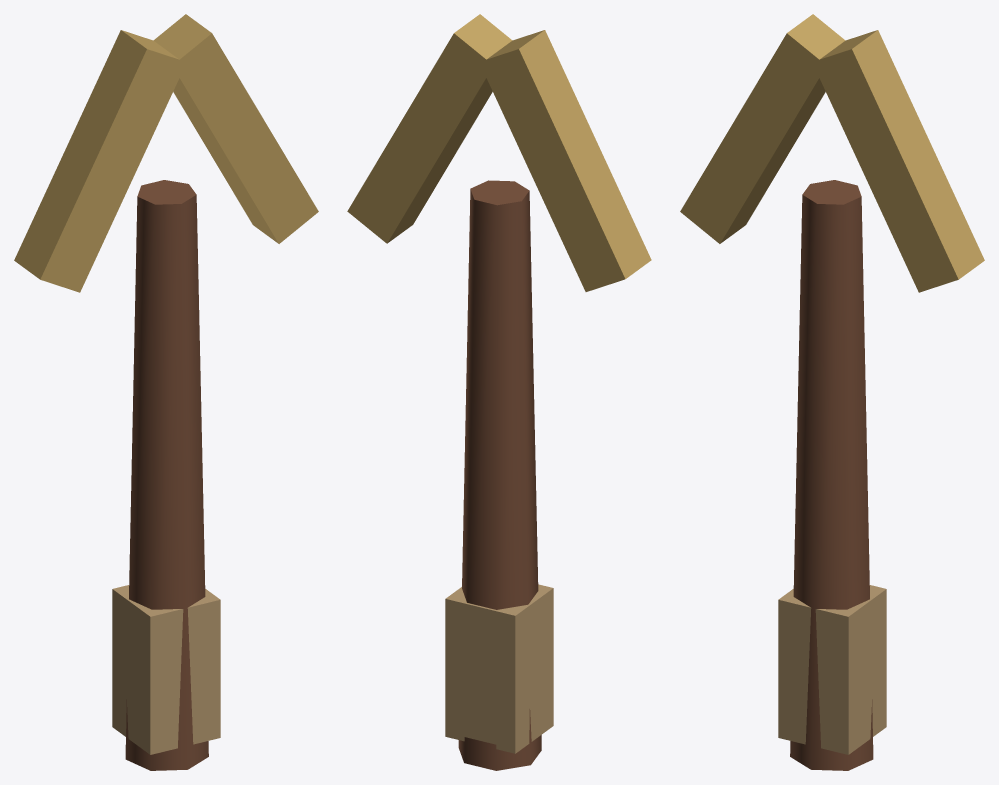
The model's file is wand-0.glb.
The picture shows the model from 3 angles, left to right: view 1: azimuth 30°, elevation 25°; view 2: azimuth 150°, elevation 25°; view 3: azimuth 330°, elevation 25°; orthographic projection.
Visible parts, largest first — view 1: piece_whole; view 2: piece_whole; view 3: piece_whole.
Boxes of the visible parts, x1=… form: piece_whole: x1=14, y1=14, x2=318, y2=770; piece_whole: x1=347, y1=14, x2=651, y2=770; piece_whole: x1=680, y1=14, x2=984, y2=770.
Size of the model in its own units: 0.3377 by 0.8367 by 0.0855.
